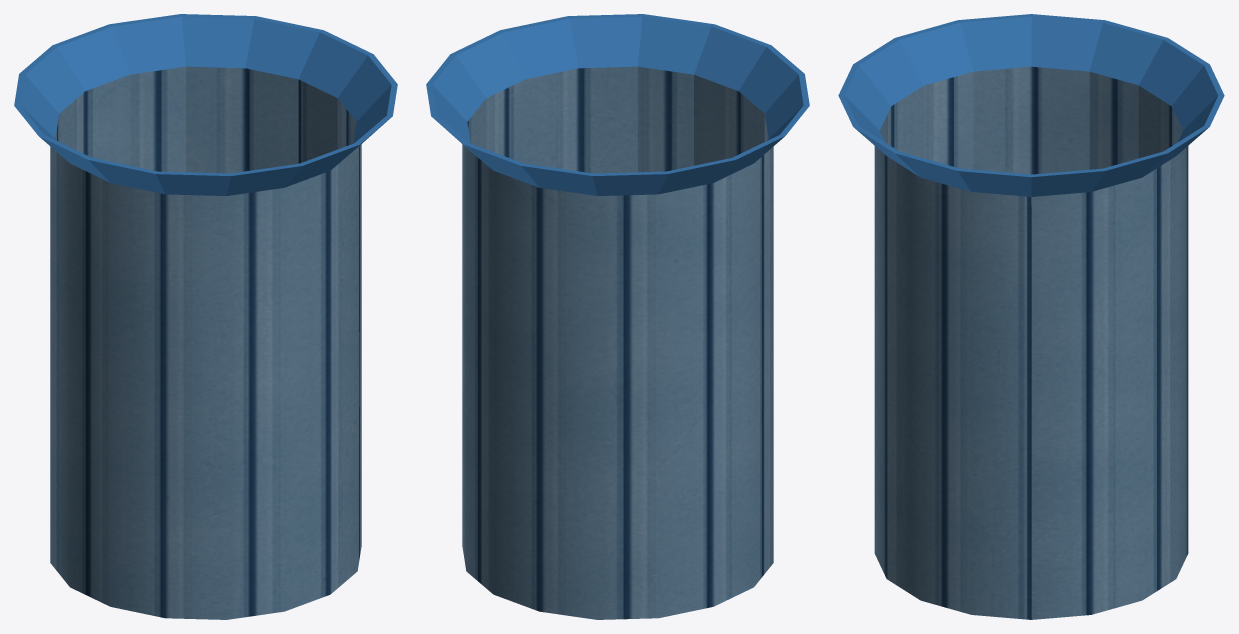
File: trash.FBX
The picture shows the model from 3 angles, left to right: view 1: azimuth 30°, elevation 25°; view 2: azimuth 150°, elevation 25°; view 3: azimuth 270°, elevation 25°; orthographic projection.
Parts seen in each view (by area): view 1: trash; view 2: trash; view 3: trash.
Part boxes in pixels (bbox=[...]): trash: bbox=[14, 14, 397, 619]; trash: bbox=[426, 14, 809, 619]; trash: bbox=[838, 14, 1224, 619].
Bounding box in the file's own units: 8.43 × 11.04 × 8.43.
